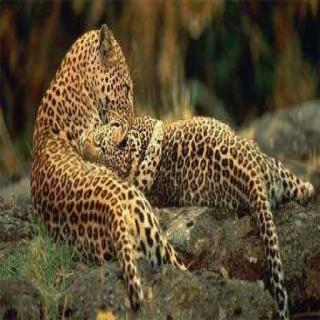Leopard: (82, 95, 320, 274), (48, 14, 162, 308)
